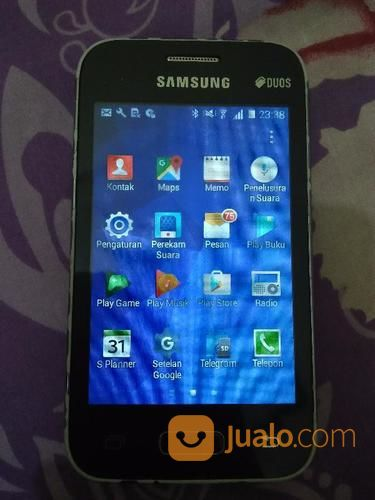Handphone: (61, 31, 319, 486)
